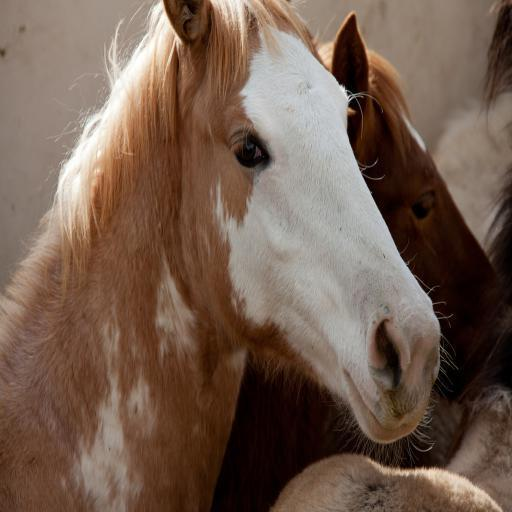horse: (0, 0, 440, 512), (208, 11, 500, 508)
